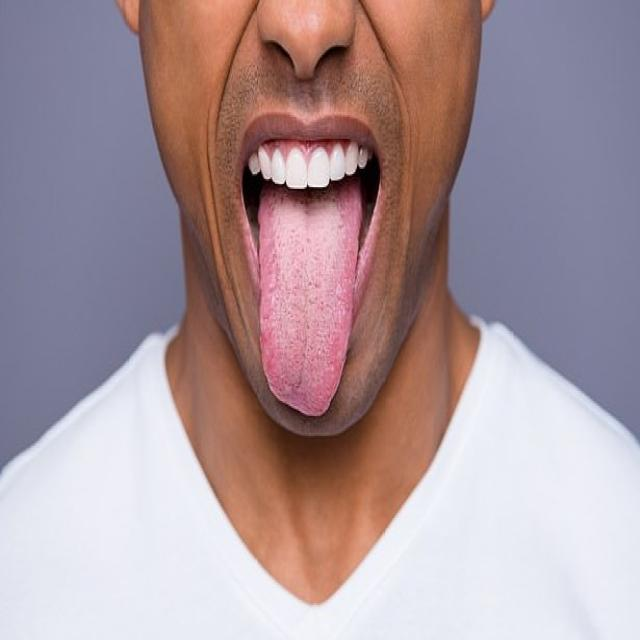discolored_patch: (247, 173, 368, 454), (266, 201, 357, 236)
